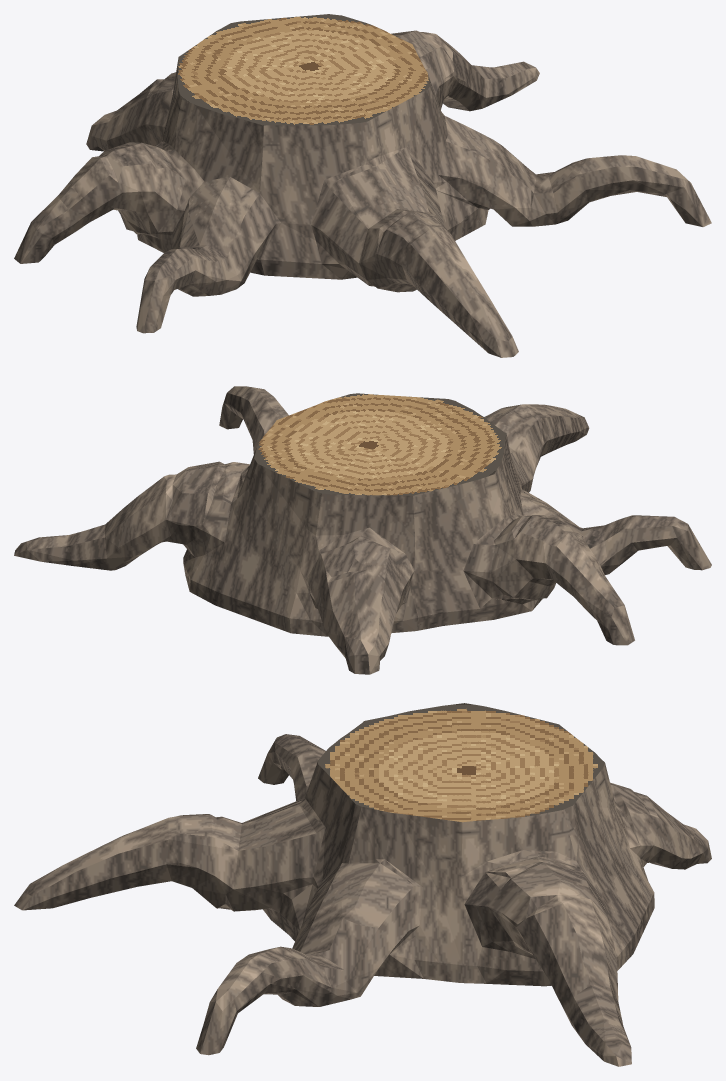
The model's file is environment_elm3_stump_v76.fbx.
3 views of the same model, one above another, from view 1: azimuth 30°, elevation 25°; view 2: azimuth 150°, elevation 25°; view 3: azimuth 270°, elevation 25° (orthographic). The views are drawn at different scales.
Visible parts, largest first — view 1: environment_elm3_stump_v76; view 2: environment_elm3_stump_v76; view 3: environment_elm3_stump_v76.
Boxes of the visible parts, bbox=[...] form: environment_elm3_stump_v76: bbox=[14, 14, 711, 357]; environment_elm3_stump_v76: bbox=[14, 386, 711, 674]; environment_elm3_stump_v76: bbox=[14, 703, 711, 1066].
Size of the model in its own units: 534 by 115 by 519.
2 materials, 2 textured.
